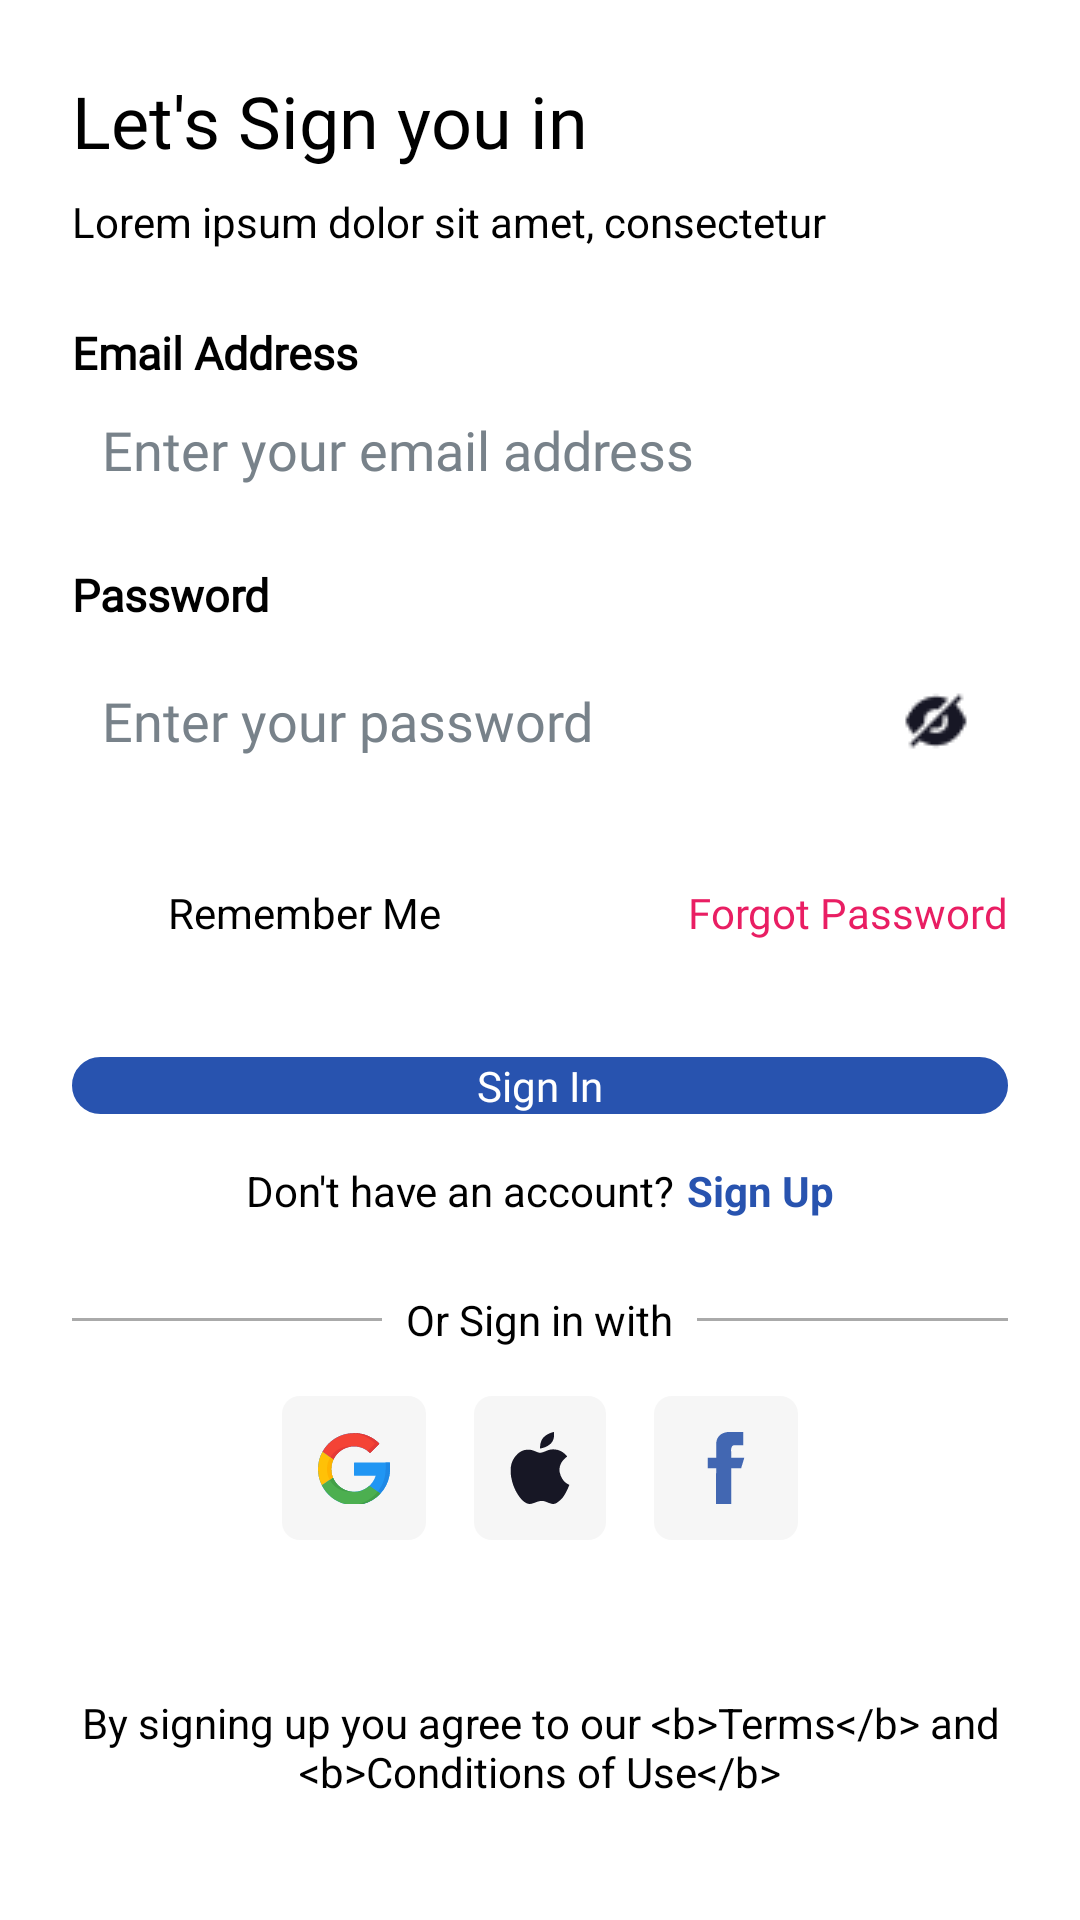

Icons on this 1080px×1920px Android screen, each with the point to tap as (x,y):
Toggle password visibility: (936,721)
